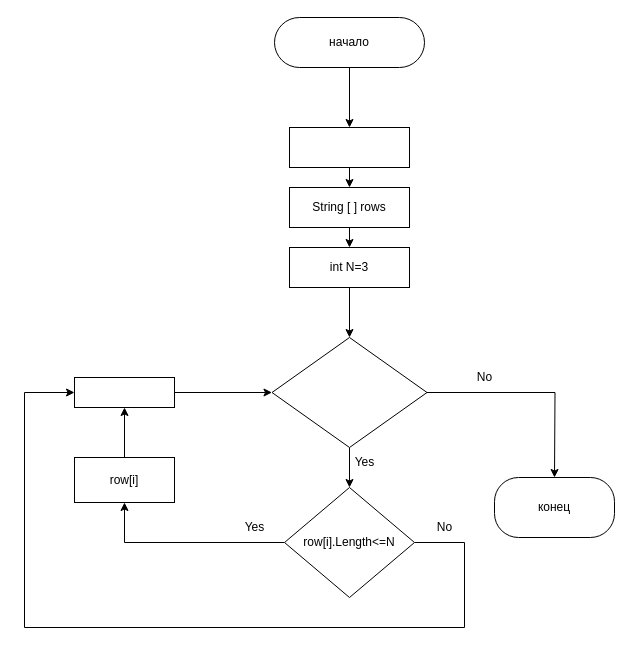
The diagram is 632 pixels wide and 653 high, and some of its shapes have lost their labels. Here are the shapes that lost their labels. From the top down, the centre of each, then its label:
point 349,147: String A
point 124,392: i++
point 349,392: i<rows.Length
